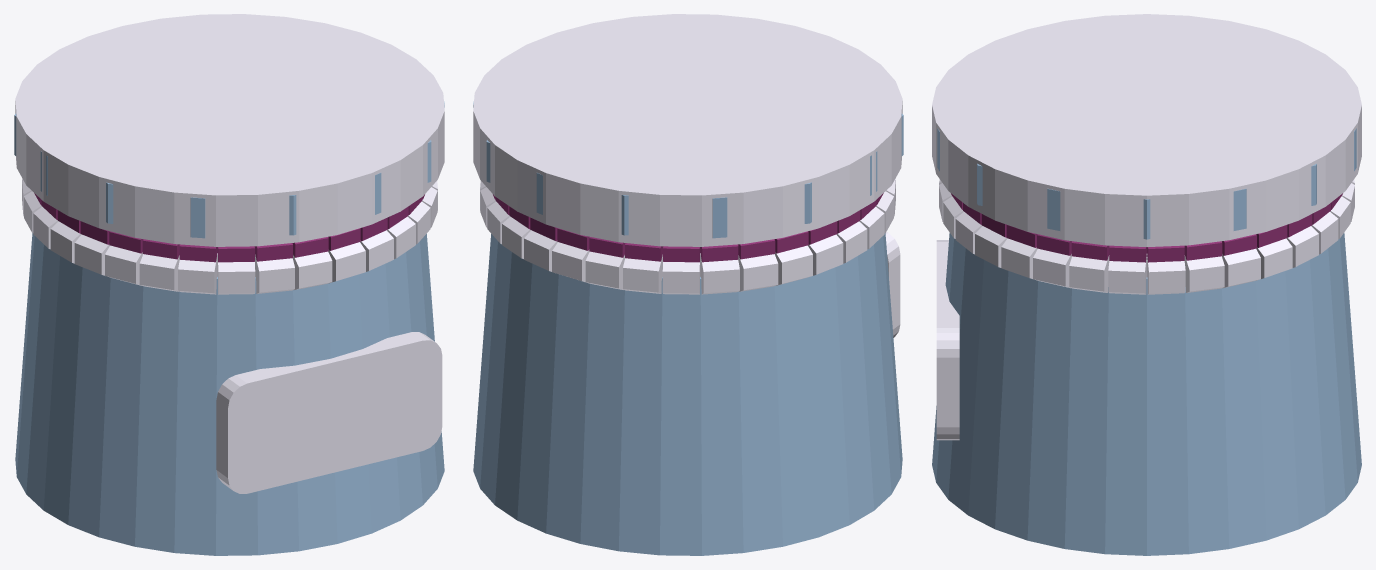
Rendered from sealjar.glb.
3 renders of one model, left to right at view 1: azimuth 30°, elevation 25°; view 2: azimuth 150°, elevation 25°; view 3: azimuth 270°, elevation 25°, orthographic.
Visible parts, largest first — view 1: jar base, lid, label, shoulder11, shoulder9, shoulder12, shoulder10, shoulder8, shoulder13, shoulder7, shoulder14, shoulder6 (+10 smaller); view 2: jar base, lid, shoulder20, shoulder22, shoulder19, shoulder21, shoulder23, shoulder18, label, shoulder24, shoulder17, shoulder25 (+10 smaller); view 3: jar base, lid, label, shoulder1, shoulder30, shoulder0, shoulder31, shoulder2, shoulder29, shoulder3, shoulder28, shoulder4 (+11 smaller).
Boxes of the visible parts, bbox=[...] form: jar base: bbox=[15, 233, 444, 555]; lid: bbox=[15, 14, 444, 246]; label: bbox=[216, 332, 442, 493]; shoulder11: bbox=[178, 254, 217, 294]; shoulder9: bbox=[255, 254, 294, 293]; shoulder12: bbox=[139, 254, 179, 291]; shoulder10: bbox=[217, 253, 255, 294]; shoulder8: bbox=[292, 251, 332, 289]; shoulder13: bbox=[105, 245, 143, 285]; shoulder7: bbox=[328, 242, 365, 283]; shoulder14: bbox=[74, 234, 109, 275]; shoulder6: bbox=[360, 230, 393, 271]; jar base: bbox=[473, 233, 902, 555]; lid: bbox=[473, 14, 902, 246]; shoulder20: bbox=[700, 254, 739, 294]; shoulder22: bbox=[623, 254, 662, 293]; shoulder19: bbox=[738, 254, 778, 291]; shoulder21: bbox=[662, 253, 700, 294]; shoulder23: bbox=[585, 251, 625, 289]; shoulder18: bbox=[774, 245, 812, 285]; label: bbox=[885, 232, 900, 337]; shoulder24: bbox=[552, 242, 589, 283]; shoulder17: bbox=[808, 234, 843, 275]; shoulder25: bbox=[524, 230, 557, 271]; jar base: bbox=[932, 233, 1361, 555]; lid: bbox=[932, 14, 1361, 246]; label: bbox=[936, 240, 959, 440]; shoulder1: bbox=[1069, 255, 1109, 292]; shoulder30: bbox=[1184, 255, 1224, 292]; shoulder0: bbox=[1108, 254, 1146, 294]; shoulder31: bbox=[1147, 254, 1185, 294]; shoulder2: bbox=[1033, 248, 1071, 288]; shoulder29: bbox=[1222, 248, 1260, 288]; shoulder3: bbox=[1001, 238, 1037, 278]; shoulder28: bbox=[1256, 238, 1292, 278]; shoulder4: bbox=[975, 226, 1007, 267].
Bounding box in the file's own units: 1.06 × 0.98 × 1.06.
